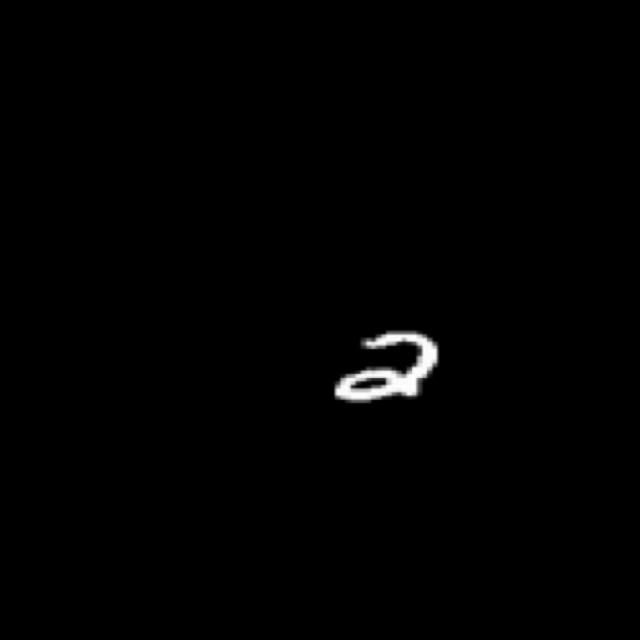two -2-: (327, 322, 455, 417)
